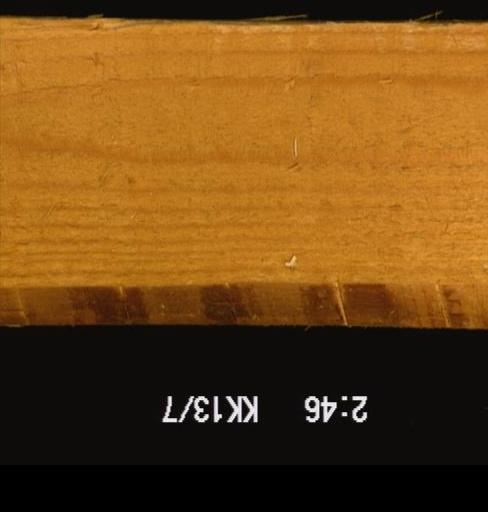wave: (0, 283, 486, 324)
